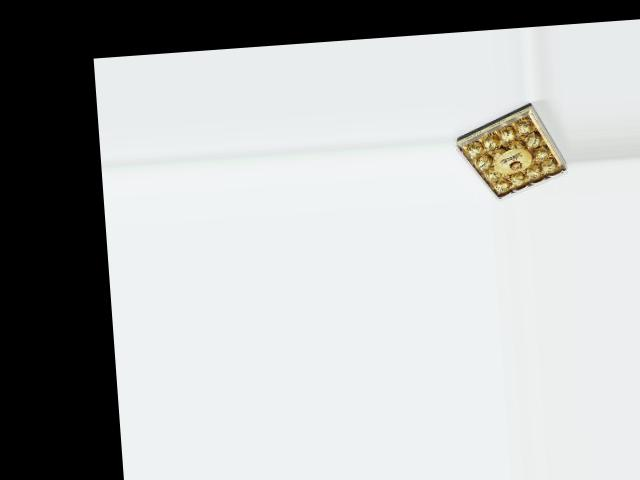chocolate: (451, 98, 570, 203)
